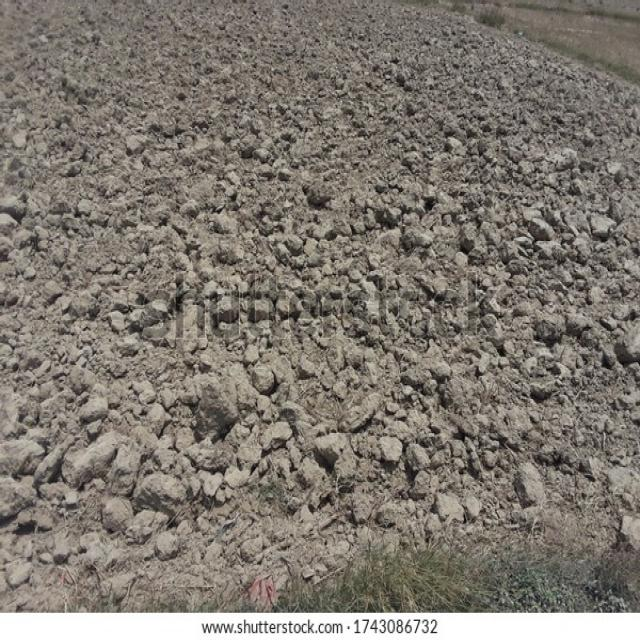Alluvial Soil: (20, 68, 613, 449)
